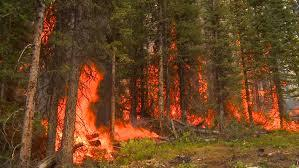fire: (120, 48, 299, 129), (44, 59, 158, 161), (39, 11, 56, 45)
